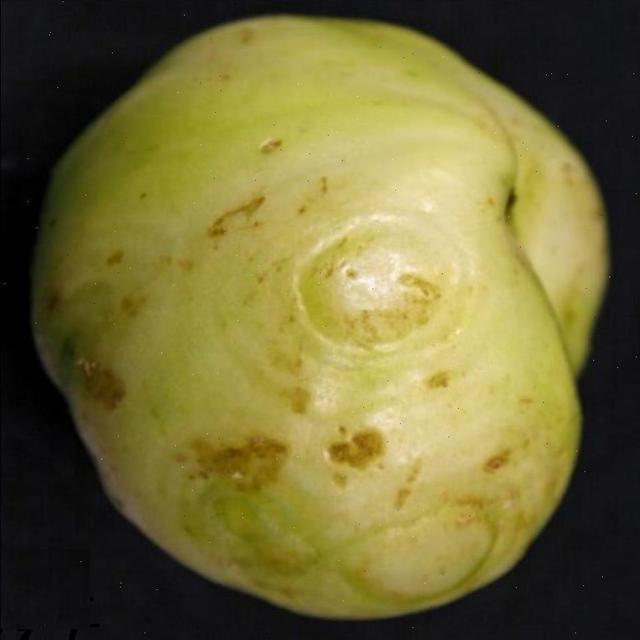Spotted wilt Virus Fruit: (210, 68, 563, 137)
